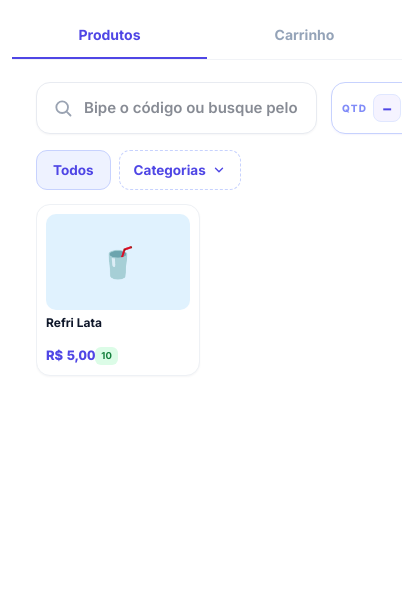
Test: CashierScreen mobile tabs (RF07–RF09, RN04) › T18 — clicking Carrinho tab shows cart panel
Click the button "Carrinho" at (304, 36), box [207,12,402,59]
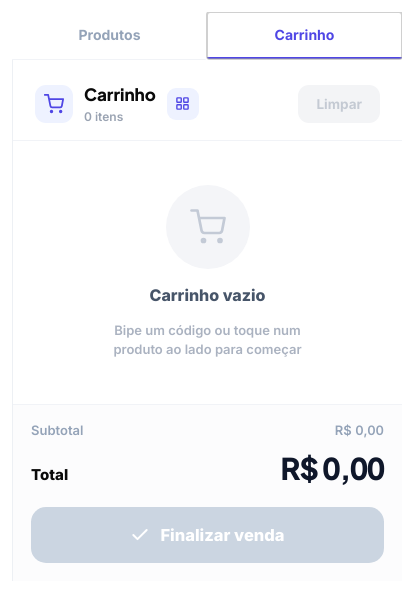
Result: the text "Carrinho vazio" is shown at [150,282,265,306]
